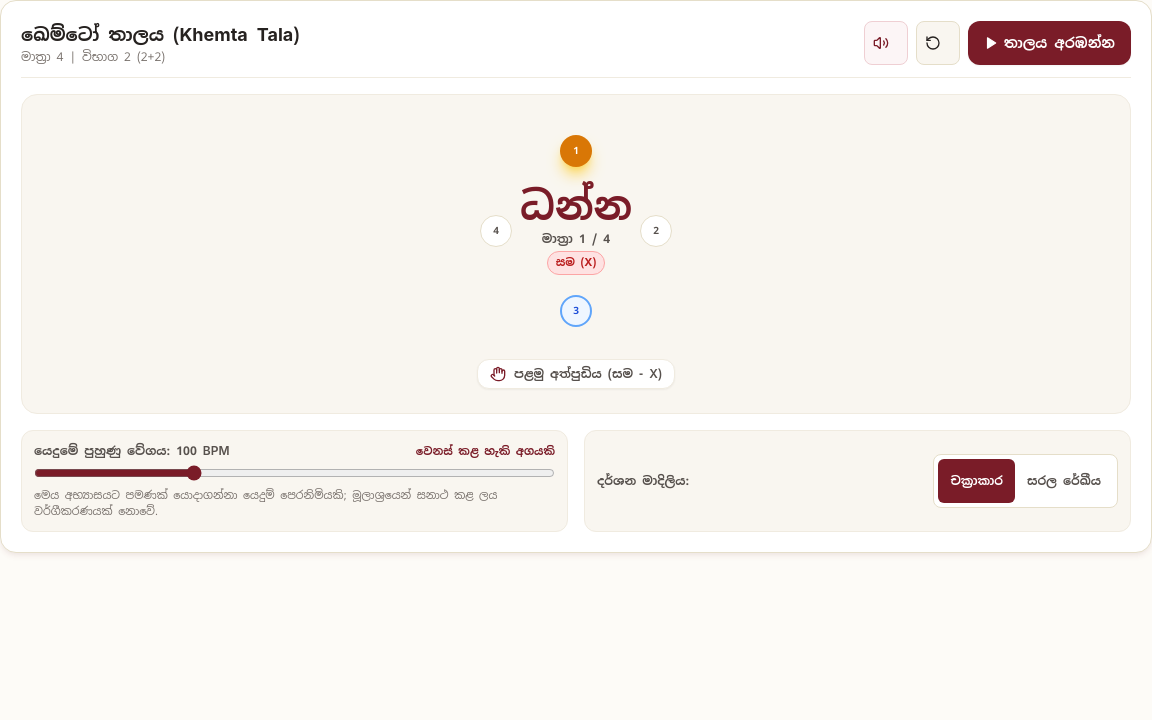
TalaVisualizer playback and hydration ownership › cancels active audio on audio-off without stopping visual timing
Step 1. Click the button "තාලය අරඹන්න" → point(1050, 43), box [968,21,1131,65]
Wait 300 ms
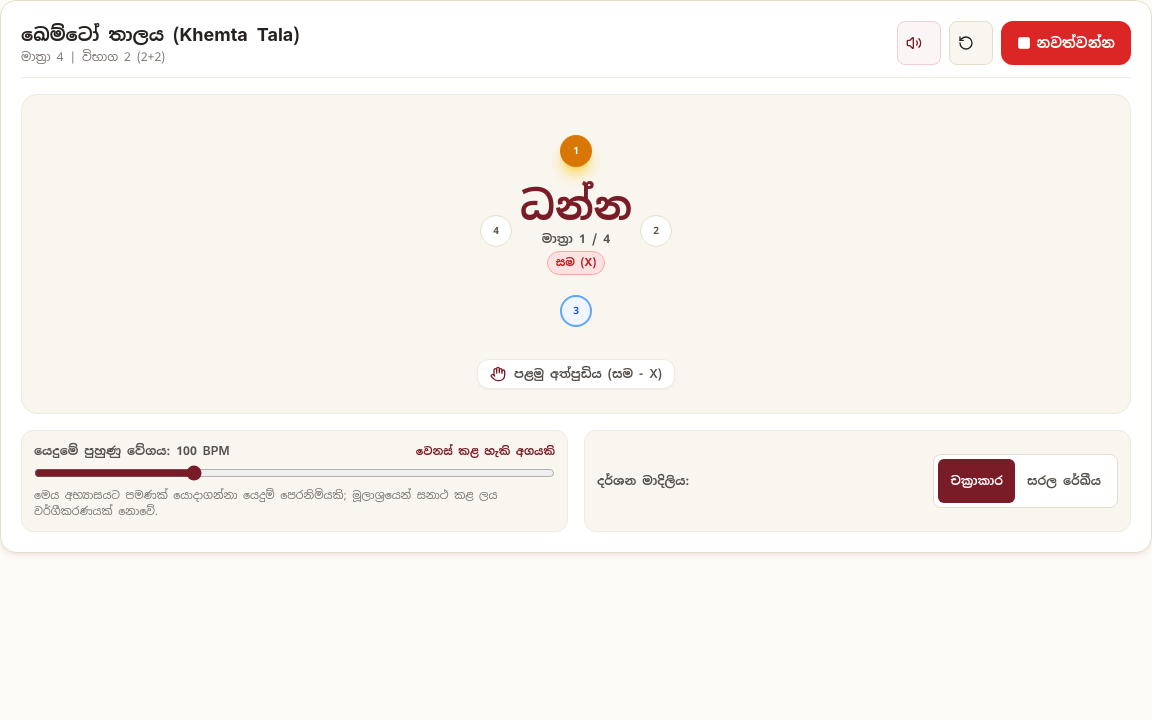
Step 2. Click the button named "තබ්ලා නාදය පාලනය" → point(918, 43), box [896,21,940,65]
Wait 300 ms
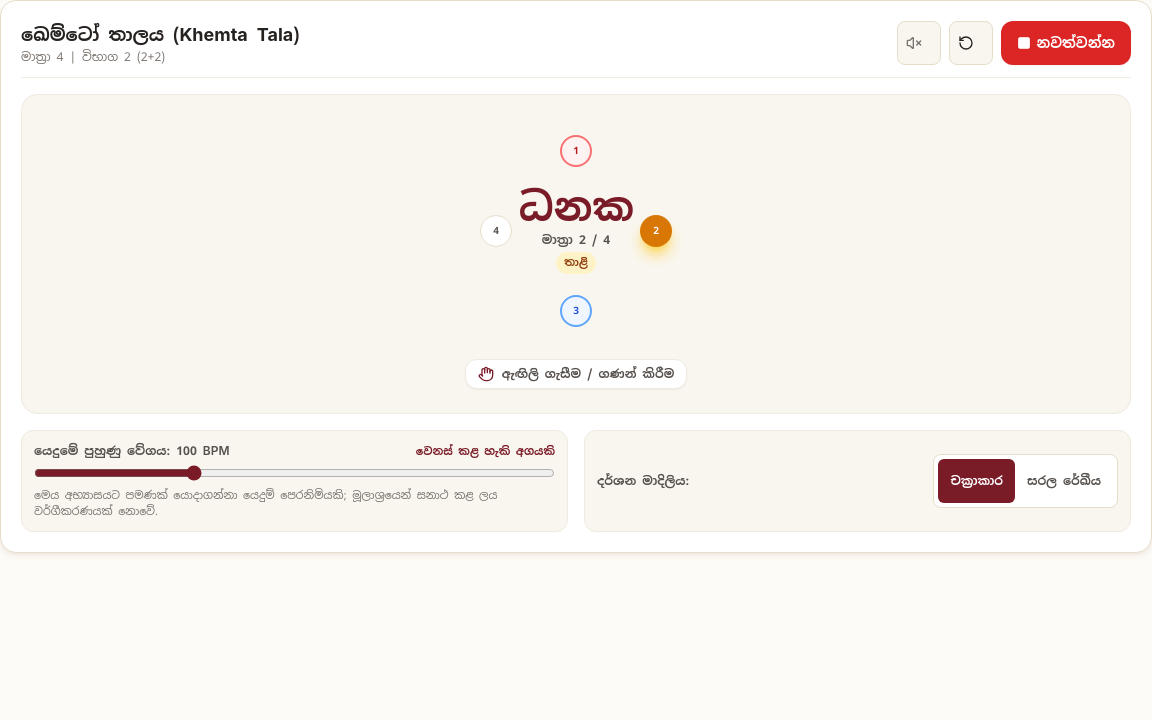
Result: the text "මාත්‍රා 2 / 4" is shown at [542,232,610,248]
